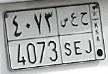0: (26, 22, 37, 64)
3: (44, 12, 59, 63)
4: (11, 15, 26, 66)
7: (34, 12, 46, 64)
J: (80, 11, 93, 55)
S: (59, 17, 71, 56)
